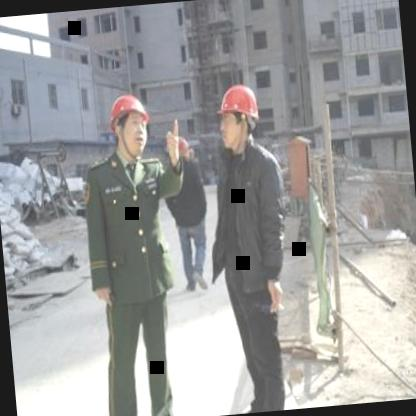helmet: (99, 84, 161, 164), (211, 74, 267, 160)
